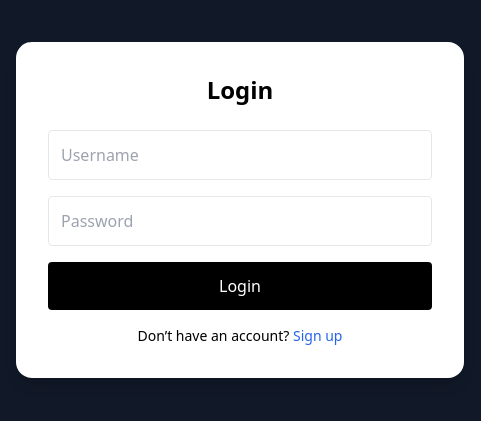
Scenario: Login page › shows "Invalid username or password" on 401
Type "bad" into the field with placeholder "Username". click: (240, 155)
box: 48,130 -> 432,180
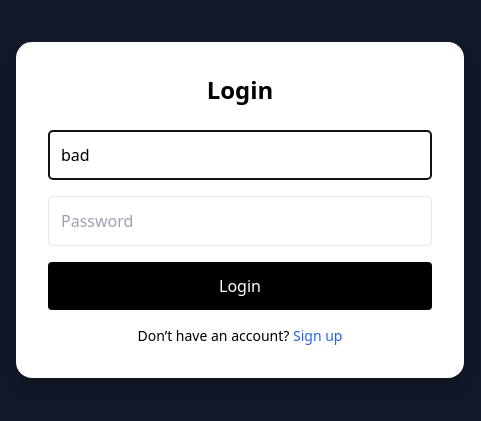
Type "wrong" into the password field with placeholder "Password". click: (240, 221)
box: 48,196 -> 432,246
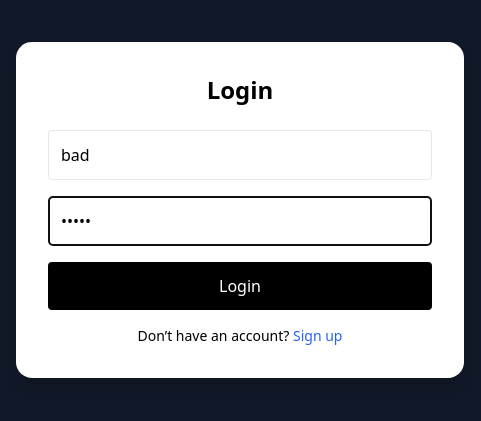
Click the button "Login". click: (240, 286)
box: 48,262 -> 432,310
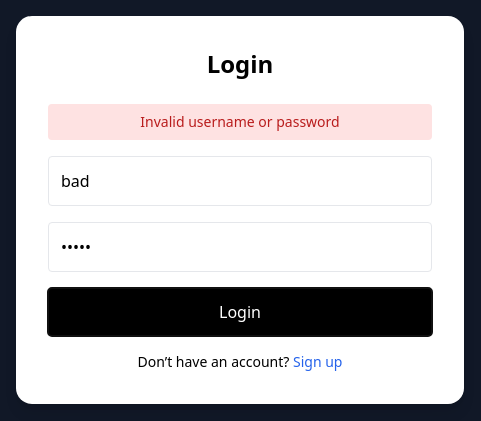
Now the text "Invalid username or password" is shown, box 48,104 -> 432,140
